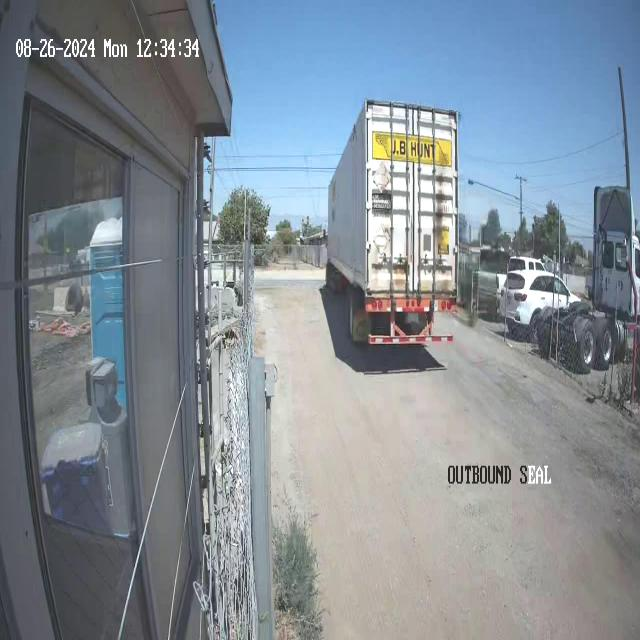TRUCK_CONTAINER: (325, 98, 460, 344)
